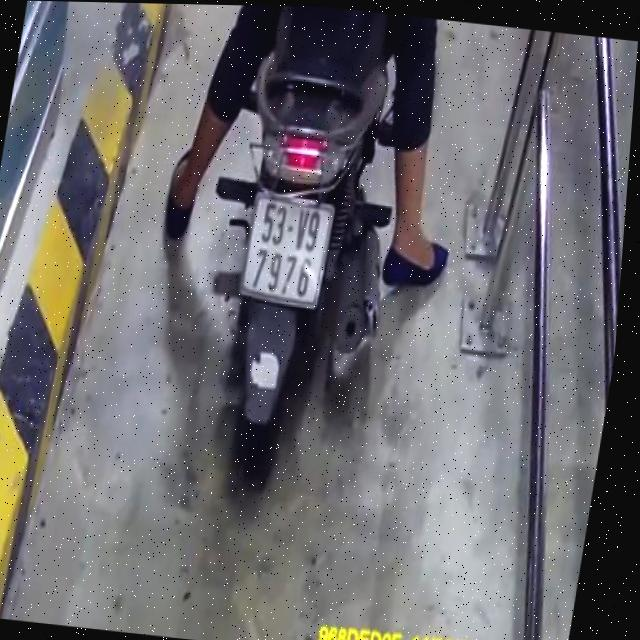motorcycle: (163, 30, 432, 498)
plate: (223, 180, 343, 309)
